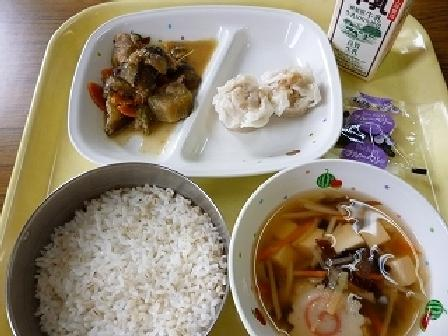Milk: (324, 0, 414, 72)
Rice: (10, 155, 232, 335), (203, 56, 323, 136)
Soups: (230, 164, 447, 329)
cooked food meat with vegetables: (92, 34, 194, 134)
